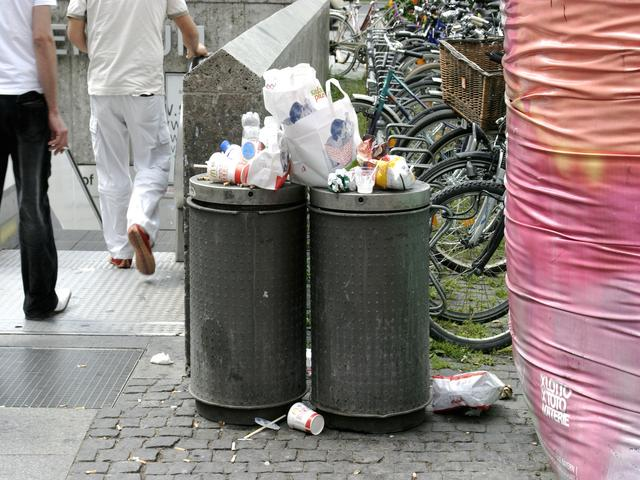garbage: (225, 118, 383, 196)
